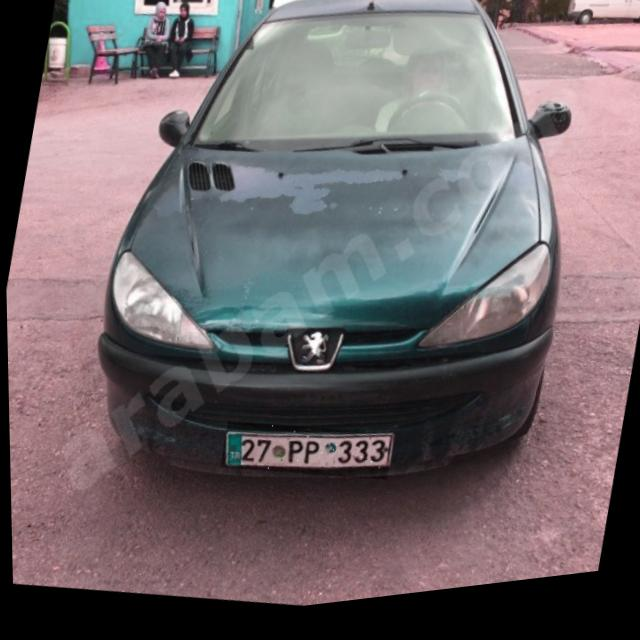license_plate: (217, 411, 393, 504)
